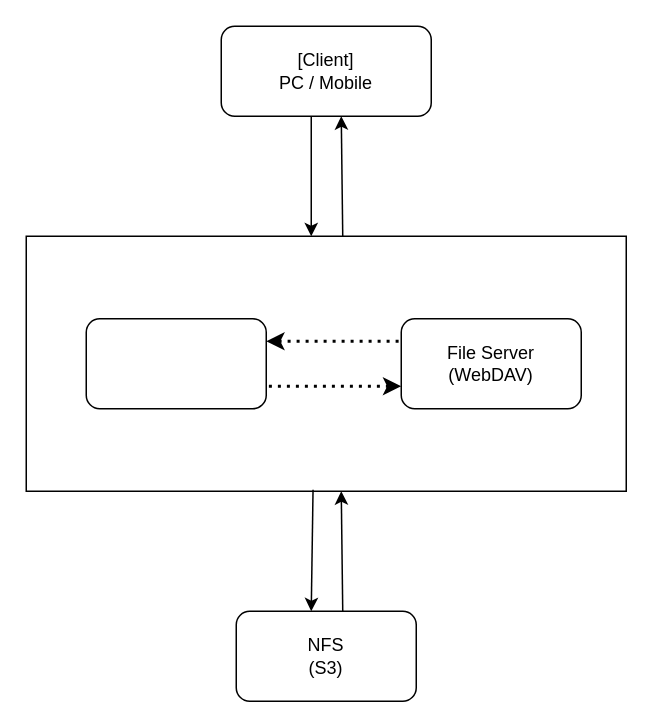
The diagram is 653 pixels wide and 728 high, and some of its shapes have lost their labels. The box of each missing label's shape, as (x1, y1, x2, y2) in pixels:
[ECS]: (25, 235, 626, 491)
VPN (WireGuard): (85, 317, 266, 409)
